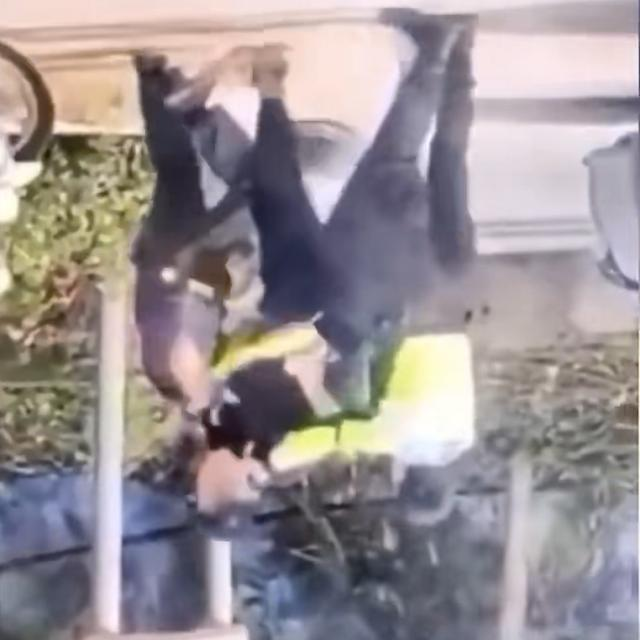fight: (163, 281, 492, 538)
